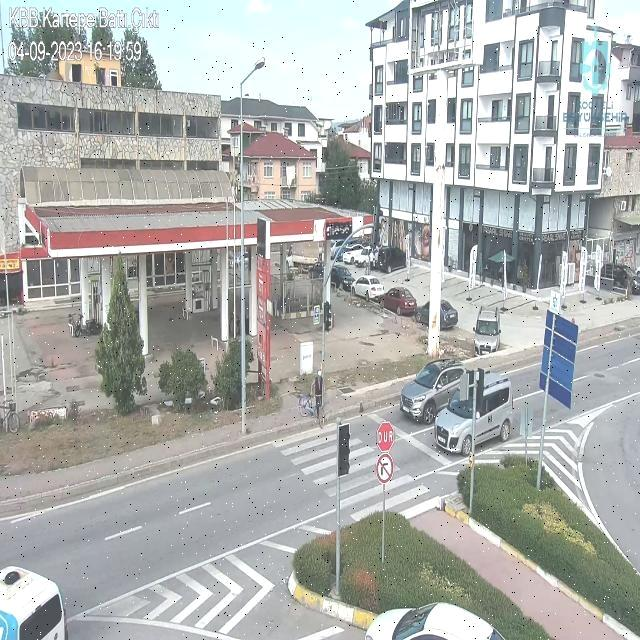Car: (435, 372, 513, 454), (365, 602, 512, 639), (398, 356, 468, 426), (472, 307, 502, 354), (416, 300, 460, 330), (600, 262, 639, 292), (382, 286, 417, 315), (373, 245, 406, 272), (352, 276, 386, 302), (326, 265, 356, 290), (343, 243, 371, 264)
